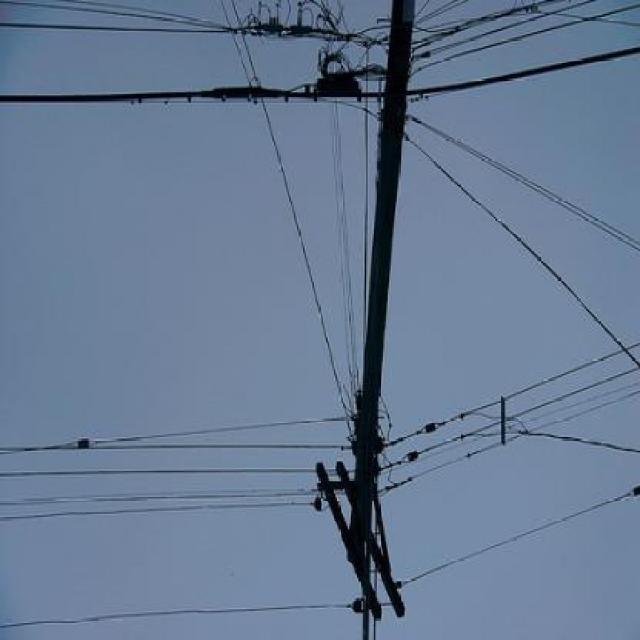pole: (324, 0, 443, 618)
